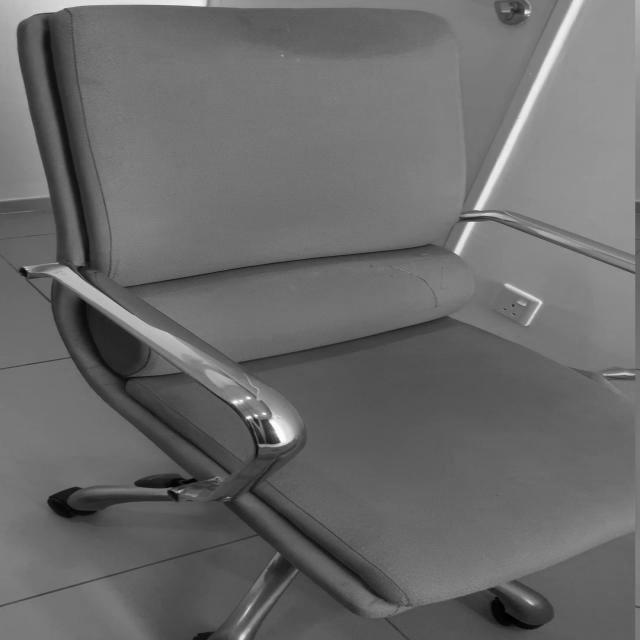chair: (13, 4, 640, 639)
